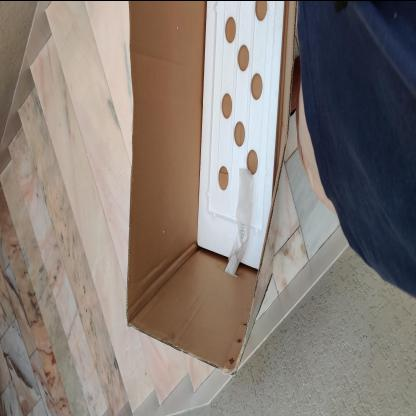karton: (124, 1, 299, 377)
kopuk: (198, 0, 284, 276)
